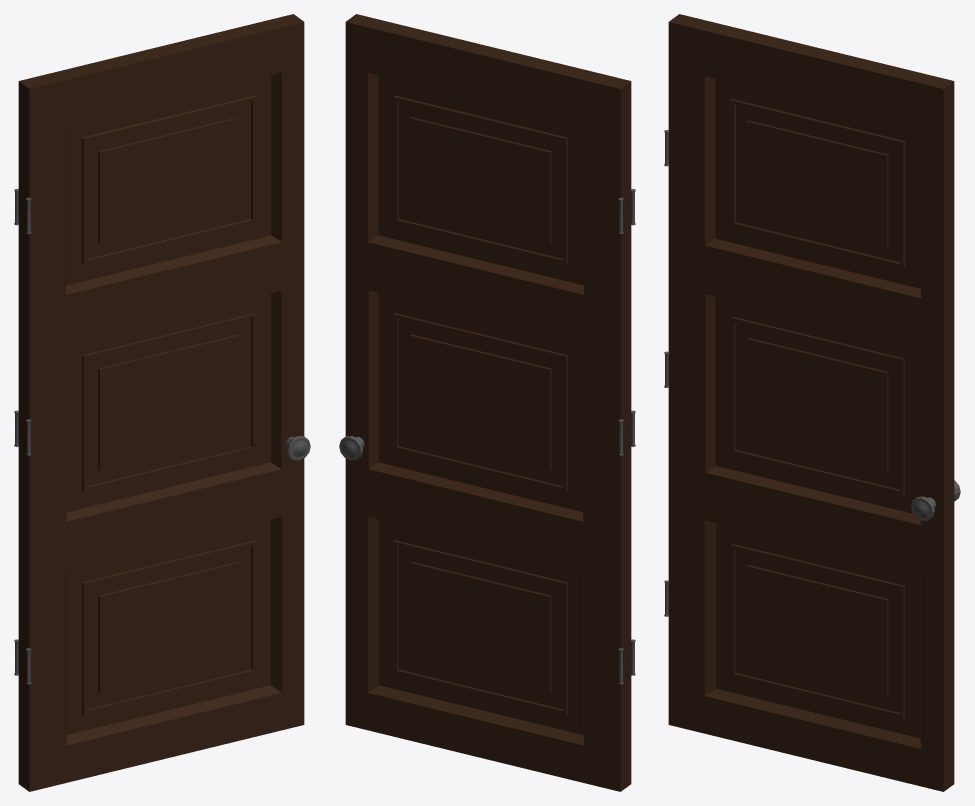
File: SM_Porte.fbx
3 renders of one model, left to right at view 1: azimuth 30°, elevation 25°; view 2: azimuth 150°, elevation 25°; view 3: azimuth 330°, elevation 25°, orthographic.
Visible parts, largest first — view 1: SM_Porte; view 2: SM_Porte; view 3: SM_Porte.
Part boxes in pixels (bbox=[...]): SM_Porte: bbox=[14, 14, 310, 791]; SM_Porte: bbox=[339, 14, 635, 791]; SM_Porte: bbox=[664, 14, 960, 791].
Bounding box in the file's own units: 87.66 × 211 × 16.41.
